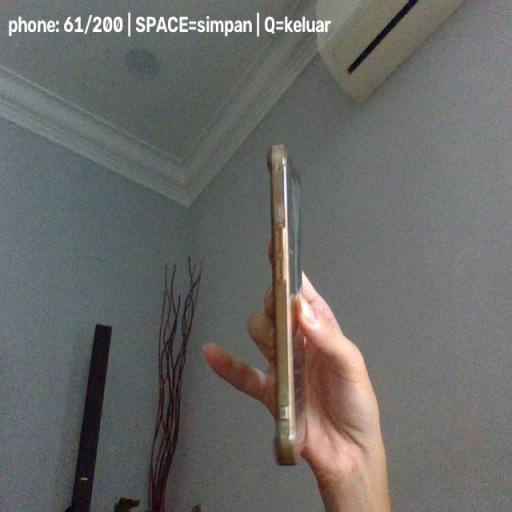Phone: (266, 144, 310, 464)
